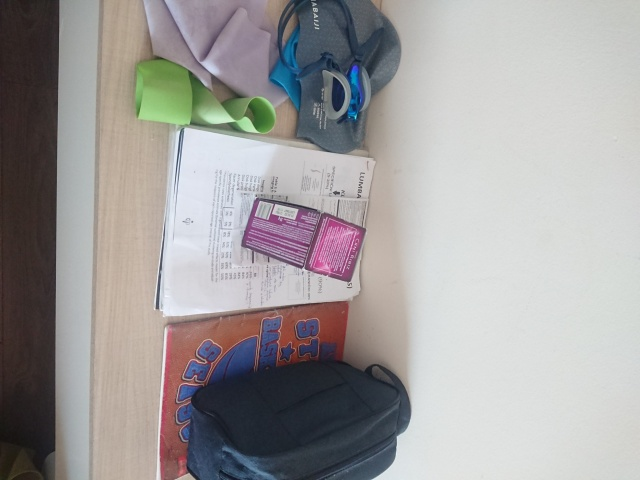Franck Black Currant Tea 60g: (239, 195, 369, 285)
